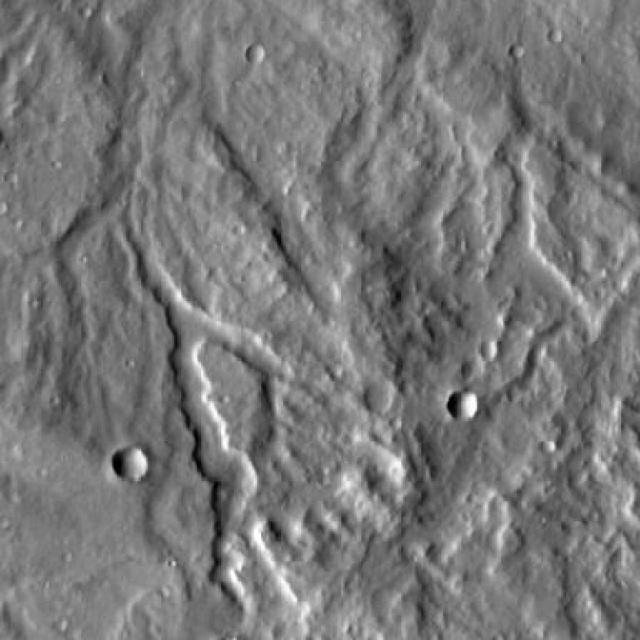crater: (110, 447, 147, 484), (448, 392, 478, 423), (363, 386, 392, 414), (481, 340, 499, 357), (243, 44, 260, 61)
